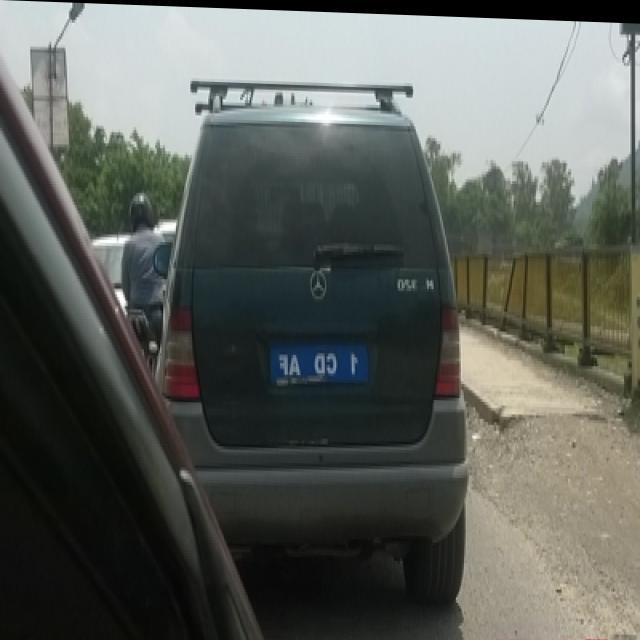licence: (270, 335, 368, 383)
